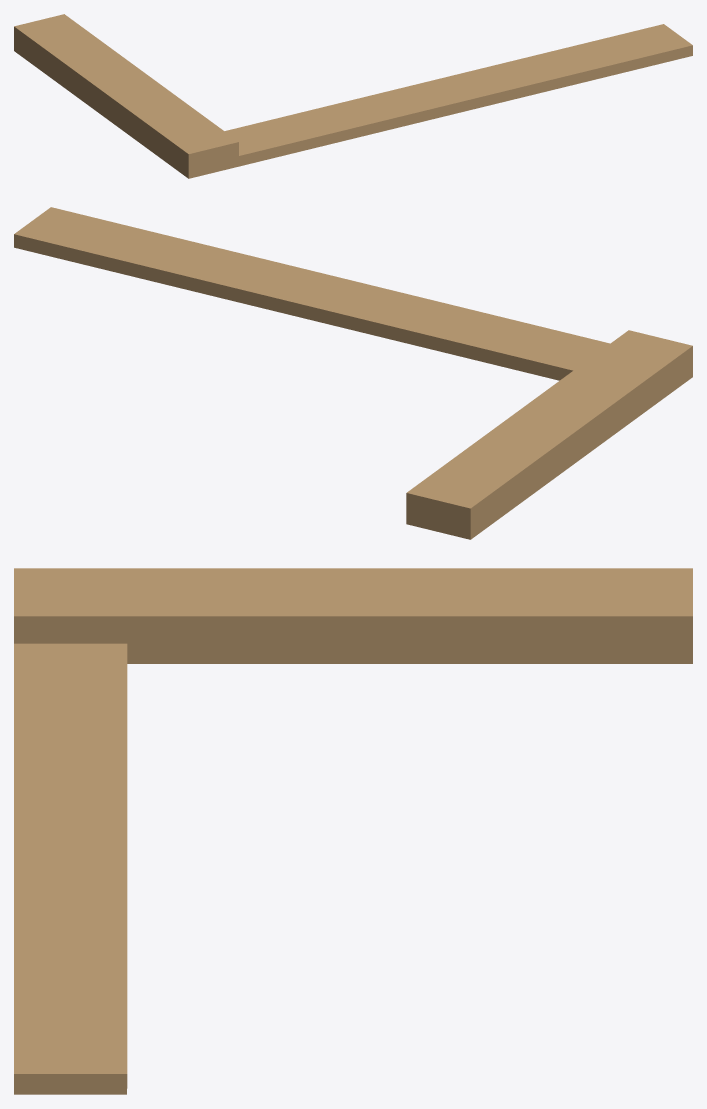
Rendered from prop-line-gauge-blank.fbx.
3 views of the same model, one above another, from view 1: azimuth 30°, elevation 25°; view 2: azimuth 150°, elevation 25°; view 3: azimuth 270°, elevation 25° (orthographic). The views are drawn at different scales.
Parts seen in each view (by area): view 1: prop-line-gauge-blank; view 2: prop-line-gauge-blank; view 3: prop-line-gauge-blank.
Part boxes in pixels (x1,y1,x2,y2): prop-line-gauge-blank: [14, 14, 692, 178]; prop-line-gauge-blank: [14, 207, 692, 539]; prop-line-gauge-blank: [14, 568, 692, 1094].
Size of the model in its own units: 30 by 1.4 by 18.
